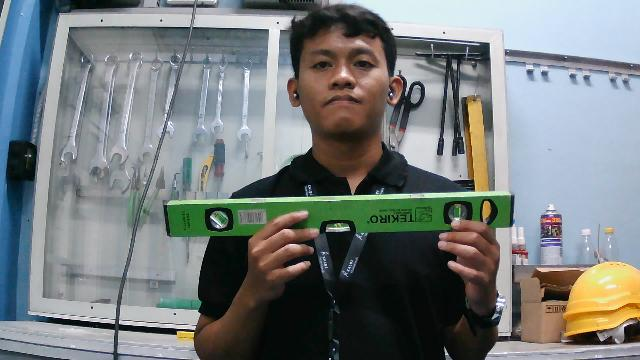water_pass: (161, 188, 517, 238)
